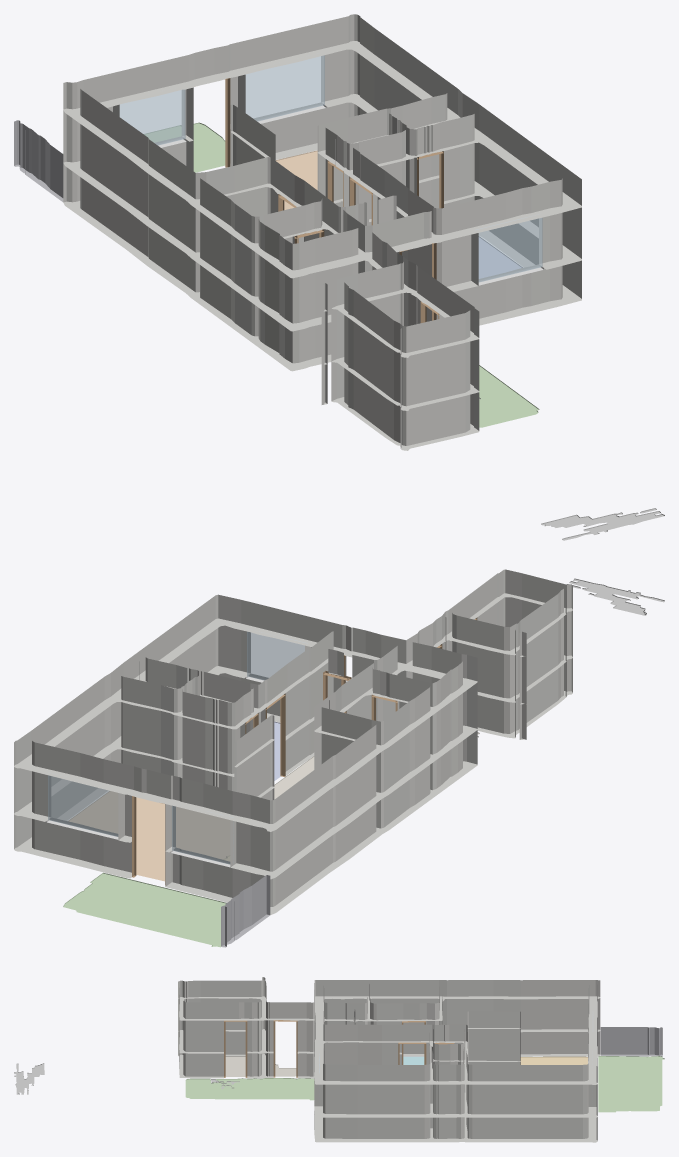
3 views of the same model, one above another, from view 1: azimuth 30°, elevation 25°; view 2: azimuth 150°, elevation 25°; view 3: azimuth 270°, elevation 25° (orthographic). The views are drawn at different scales.
Visible parts, largest first — view 1: walls, window_11, window_12, window_10, railings, floor_0_Outdoor, floor_1_Outdoor, floor_11_Garage, floor_4_Bed_Room, floor_3_Living_Room; view 2: walls, floor_1_Outdoor, floor_3_Living_Room, window_11, window_10, railings, window_12, floor_11_Garage, floor_7_Entry; view 3: walls, floor_1_Outdoor, floor_0_Outdoor, railings, floor_2_Kitchen, floor_11_Garage, floor_8_Storage, door_8, door_9.
Boxes of the visible parts, <box> form: walls: <box>63,14,581,450</box>; window_11: <box>245,55,324,121</box>; window_12: <box>476,214,542,282</box>; window_10: <box>119,89,185,145</box>; railings: <box>14,120,63,201</box>; floor_0_Outdoor: <box>479,365,539,427</box>; floor_1_Outdoor: <box>144,122,225,172</box>; floor_11_Garage: <box>541,508,664,540</box>; floor_4_Bed_Room: <box>479,236,522,278</box>; floor_3_Living_Room: <box>275,150,317,242</box>; walls: <box>14,569,572,914</box>; floor_1_Outdoor: <box>63,872,226,947</box>; floor_3_Living_Room: <box>68,791,229,881</box>; window_11: <box>48,775,118,836</box>; window_10: <box>172,805,233,864</box>; railings: <box>221,875,270,947</box>; window_12: <box>247,631,307,680</box>; floor_11_Garage: <box>566,578,664,615</box>; floor_7_Entry: <box>274,756,314,799</box>; walls: <box>178,977,600,1142</box>; floor_1_Outdoor: <box>598,1056,664,1112</box>; floor_0_Outdoor: <box>185,1078,314,1100</box>; railings: <box>600,1027,662,1056</box>; floor_2_Kitchen: <box>520,1056,587,1064</box>; floor_11_Garage: <box>14,1063,44,1094</box>; floor_8_Storage: <box>225,1056,245,1076</box>; door_8: <box>273,1020,297,1077</box>; door_9: <box>224,1020,247,1077</box>.
Size of the model in its own units: 7.21 by 2.72 by 21.49.
